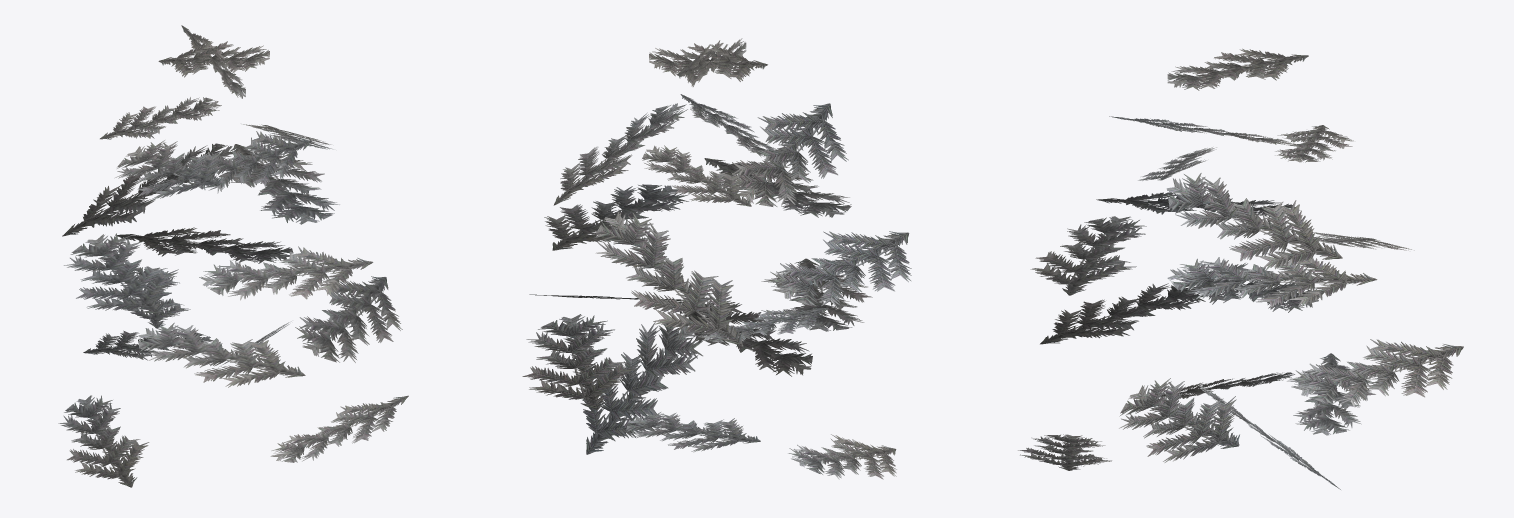
The model's file is dwarf_pine_l2.gltf.
The picture shows the model from 3 angles, left to right: view 1: azimuth 30°, elevation 25°; view 2: azimuth 150°, elevation 25°; view 3: azimuth 270°, elevation 25°; orthographic projection. The views are drawn at different scales.
Visible parts, largest first — view 1: dwarf_pine_l2; view 2: dwarf_pine_l2; view 3: dwarf_pine_l2.
Boxes of the visible parts, x1,y1,x2,y2 form: dwarf_pine_l2: (58, 25, 408, 487); dwarf_pine_l2: (522, 38, 911, 479); dwarf_pine_l2: (1018, 48, 1463, 489).
Bounding box in the file's own units: 4.02 × 3.9 × 4.32.
1 material, 1 textured.
